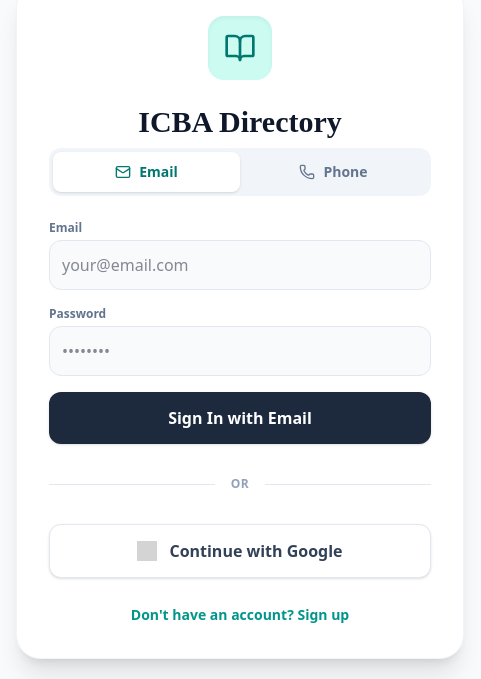
Test: Login page workflows › validates local phone number format before requesting OTP
Click the button "Phone" at (334, 172), box [240, 152, 427, 192]
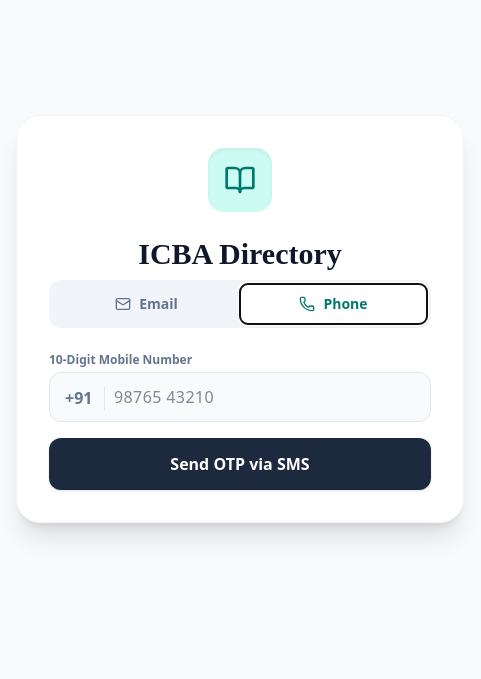
Type "123" into the field with placeholder "98765 43210" at (240, 397), box [49, 372, 431, 422]
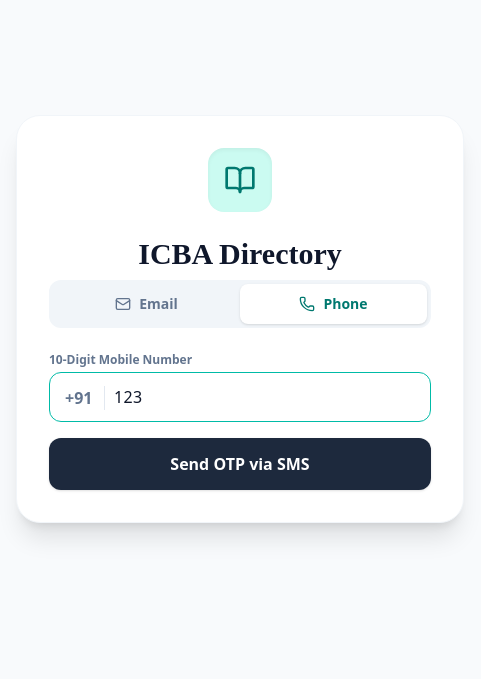
Click the button "Send OTP via SMS" at (240, 464), box [49, 438, 431, 490]
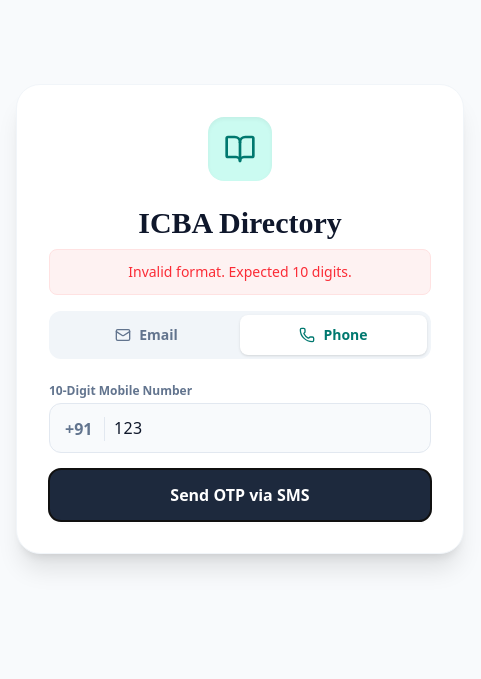
Expected: the text "Invalid format. Expected 10 digits." is shown, [49, 249, 431, 295]
